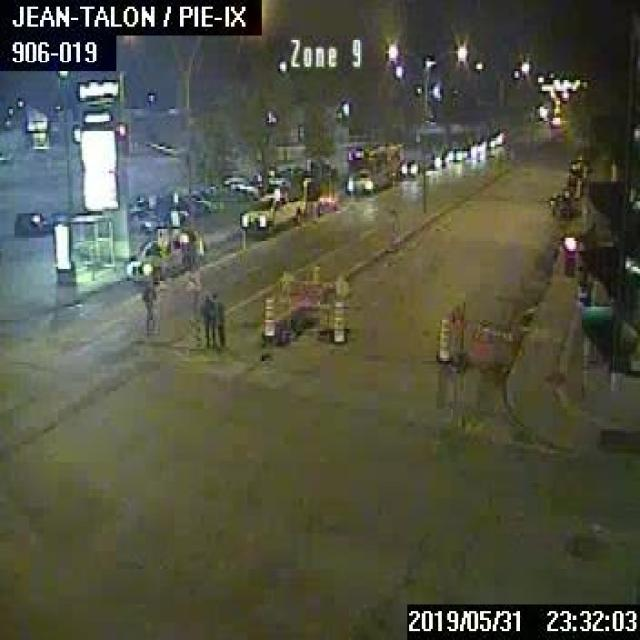construction: (272, 262, 349, 345), (448, 301, 522, 371), (329, 295, 346, 342), (434, 318, 451, 362), (260, 293, 274, 338)
pedestrian: (198, 290, 213, 349), (210, 290, 224, 347), (140, 279, 154, 334), (151, 280, 161, 334)
vehicle: (124, 225, 204, 282), (238, 192, 304, 235), (13, 211, 50, 234), (222, 175, 258, 197), (345, 166, 376, 191), (128, 209, 162, 230), (549, 190, 572, 218), (561, 172, 581, 195), (396, 158, 418, 176), (566, 156, 584, 171)
